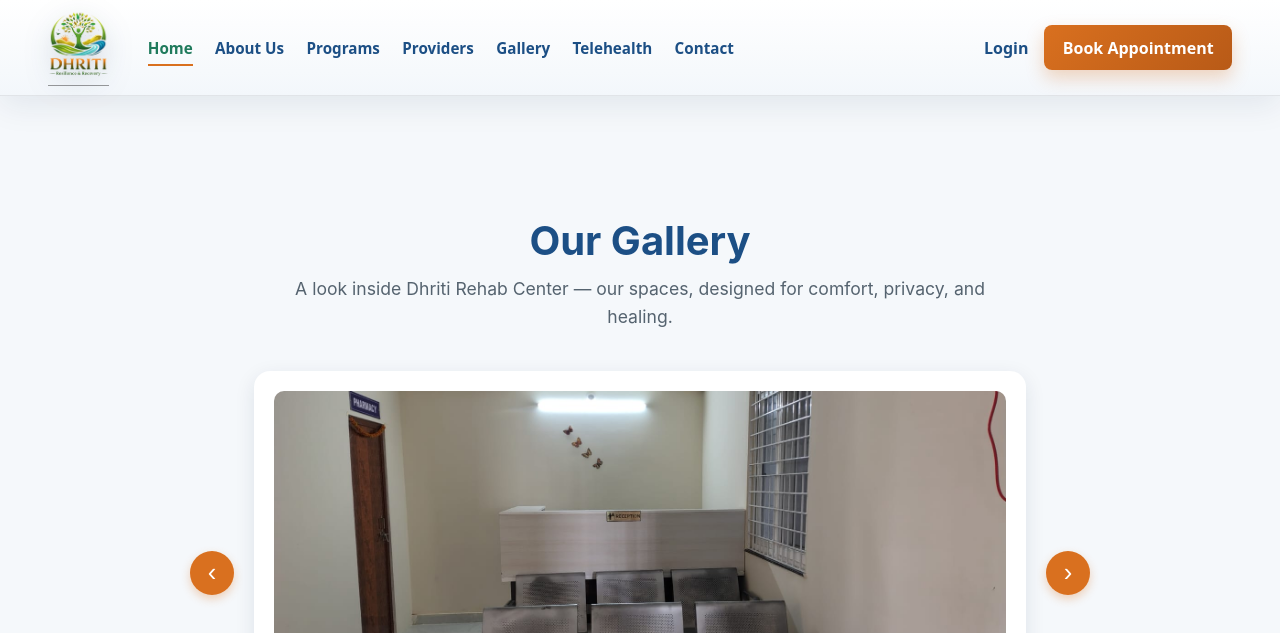
Test: Gallery › wraps backward to the last photo from the first
Click the button named "previous image": x=212, y=573 190,551 -> 234,595
(page scrolled)
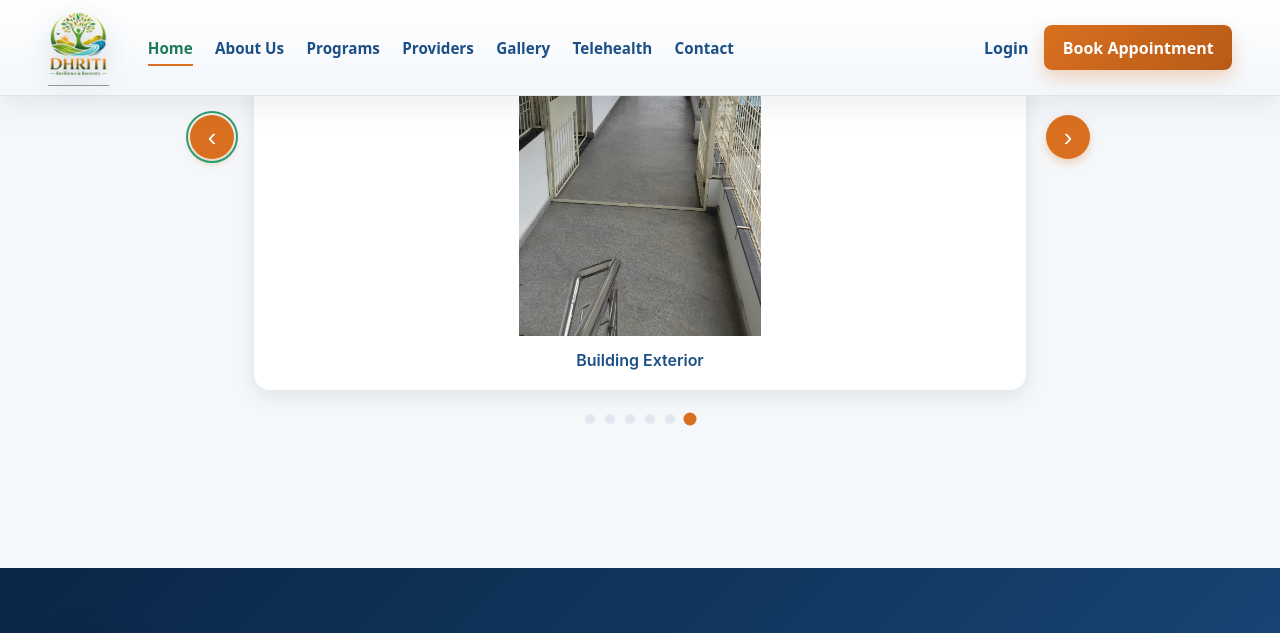
Expected: the text "Building Exterior" is shown, 576,350 -> 704,370
